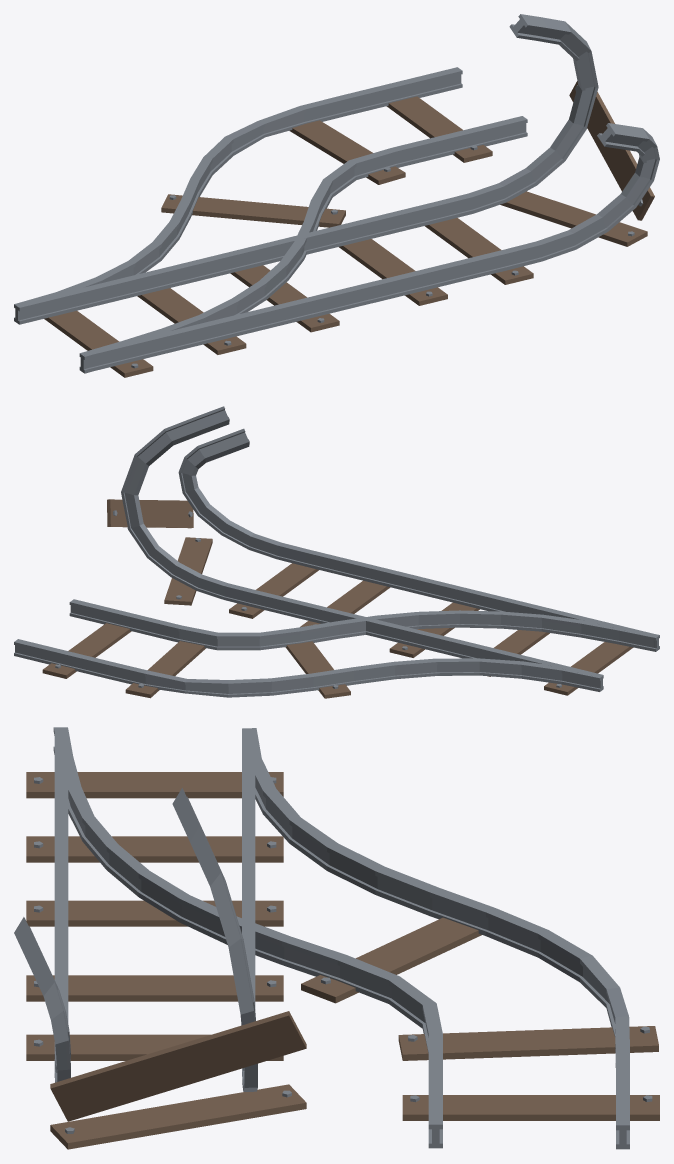
File: Track_CurveLeft.fbx
3 renders of one model, top to bottom at view 1: azimuth 30°, elevation 25°; view 2: azimuth 150°, elevation 25°; view 3: azimuth 270°, elevation 25°, orthographic. The views are drawn at different scales.
Visible parts, largest first — view 1: Track_Straight.005; view 2: Track_Straight.005; view 3: Track_Straight.005.
Boxes of the visible parts, bbox=[...] form: Track_Straight.005: bbox=[14, 14, 659, 377]; Track_Straight.005: bbox=[14, 406, 659, 698]; Track_Straight.005: bbox=[14, 727, 659, 1149].
Size of the model in its own units: 408 by 142 by 276.
